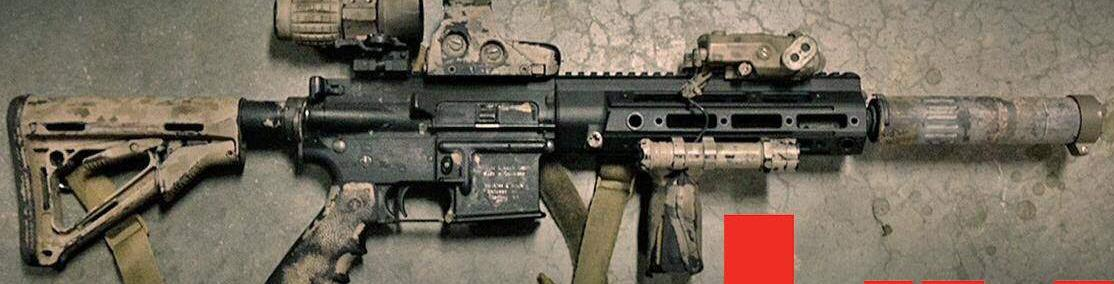gun: (1, 0, 1114, 284)
